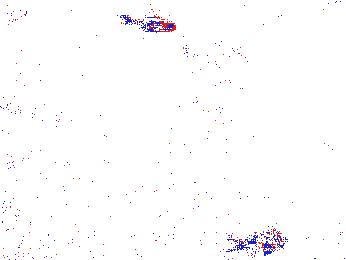X-ray fish: (127, 162, 180, 189)
red belly glassfish: (119, 13, 175, 37)
redtail glassfish: (180, 34, 257, 67)
